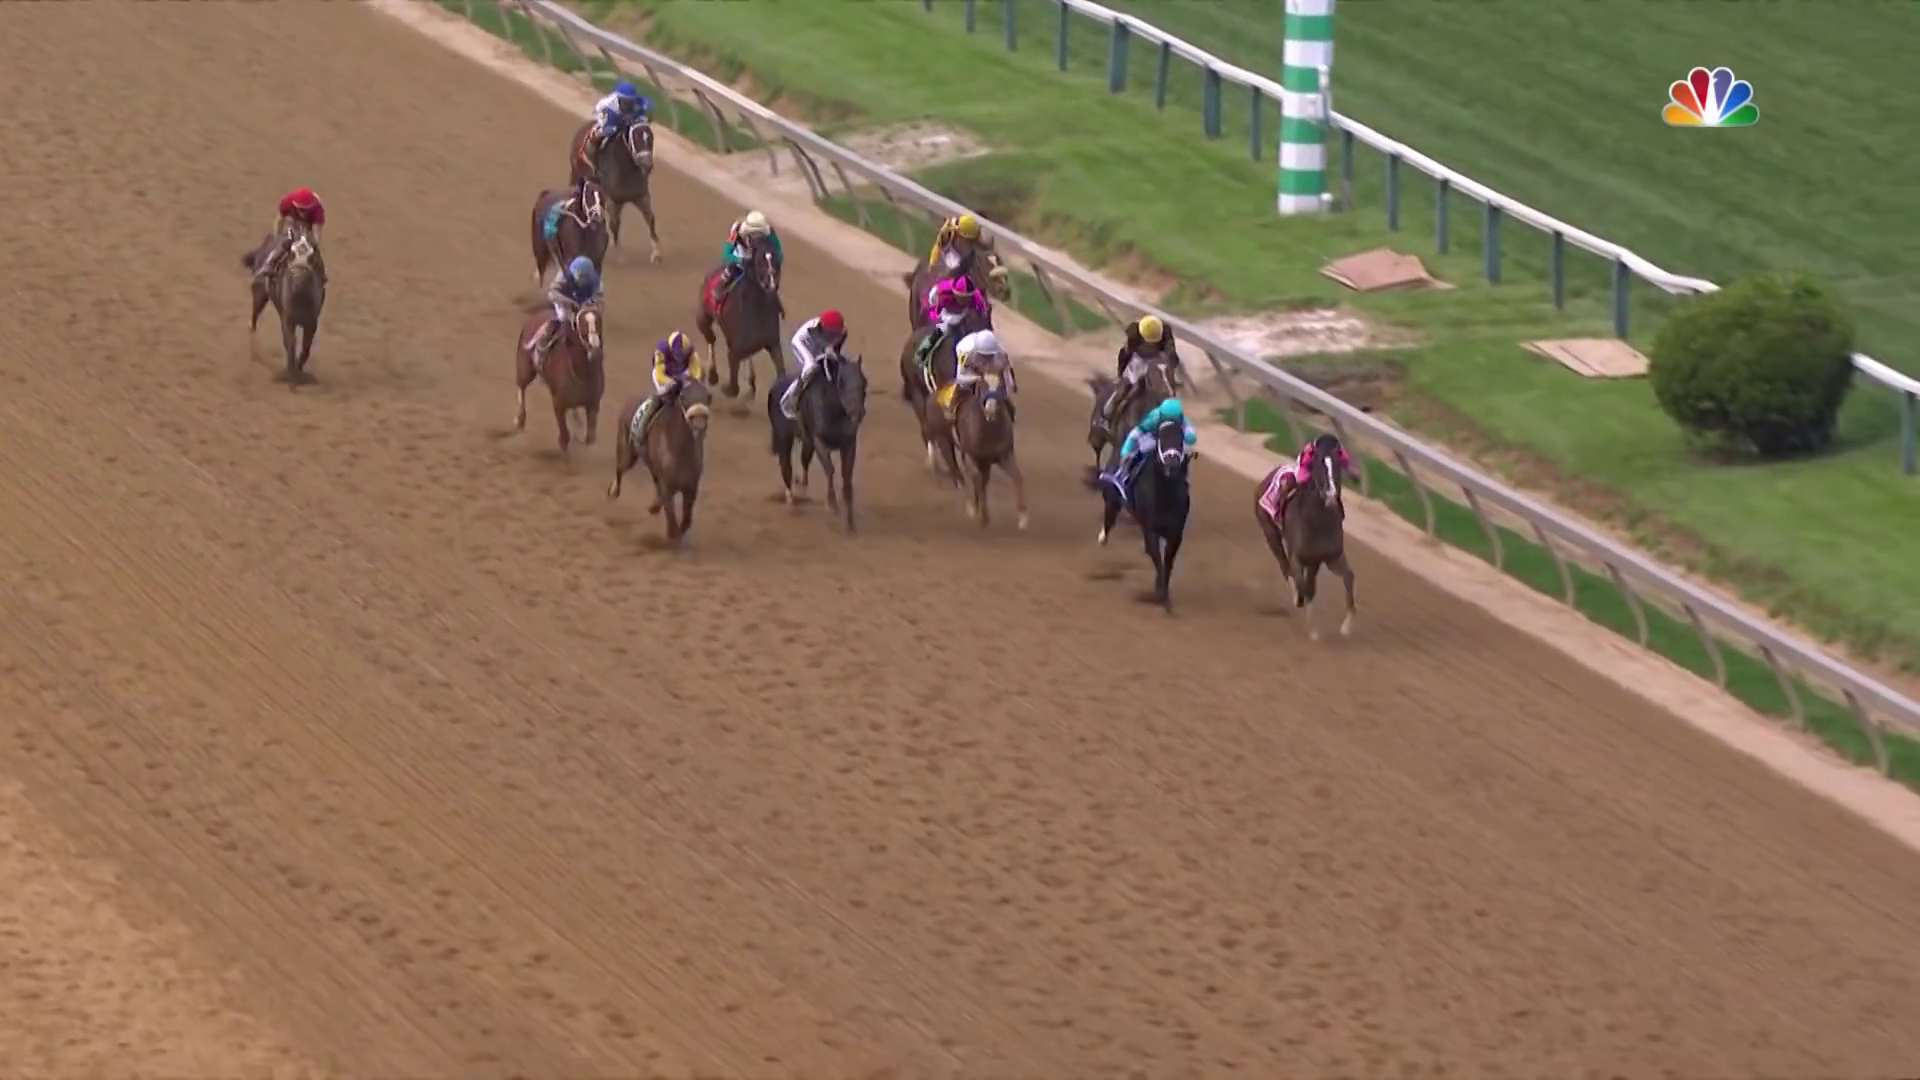jockey: (783, 306, 851, 418), (545, 255, 609, 347), (1117, 405, 1203, 472), (935, 210, 1000, 293), (720, 211, 787, 290), (953, 326, 1013, 415), (1280, 429, 1350, 502), (654, 324, 707, 422), (919, 278, 986, 355), (1120, 314, 1179, 397), (591, 86, 658, 156), (276, 186, 332, 255)
